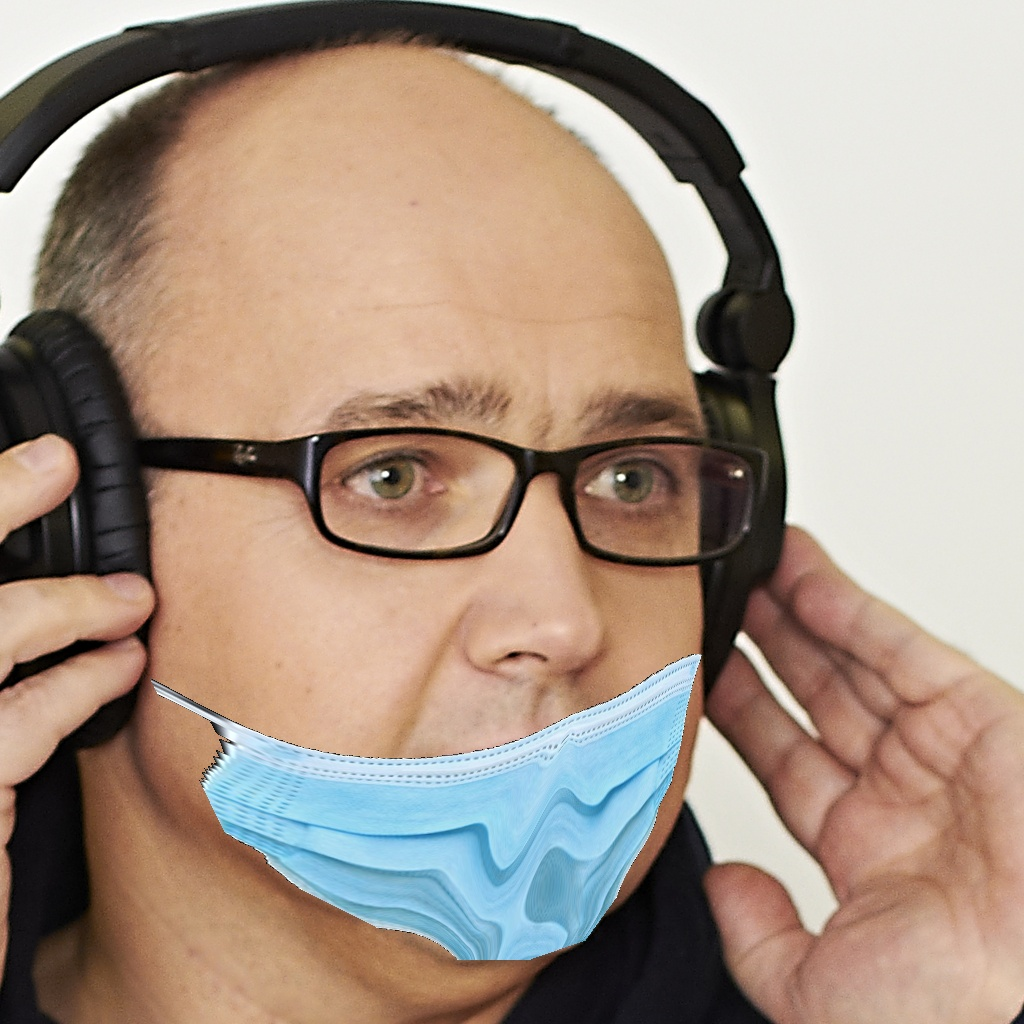mascarilla_mal_puesta: (144, 350, 739, 968)
